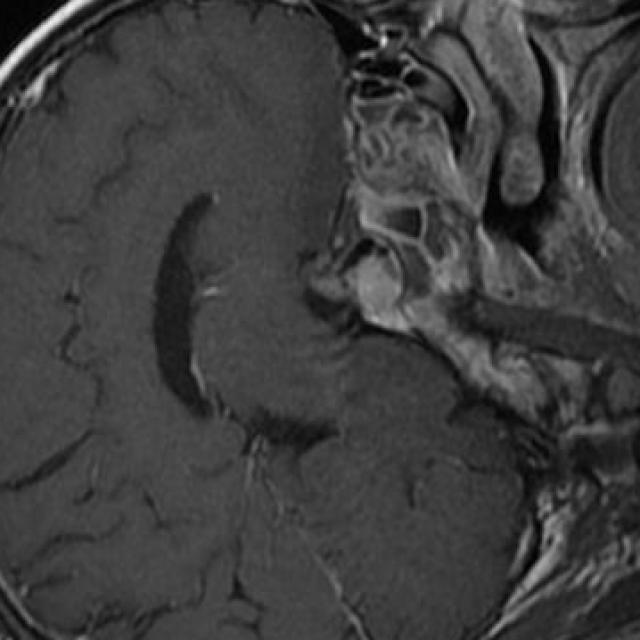pituitary: (351, 255, 406, 332)
